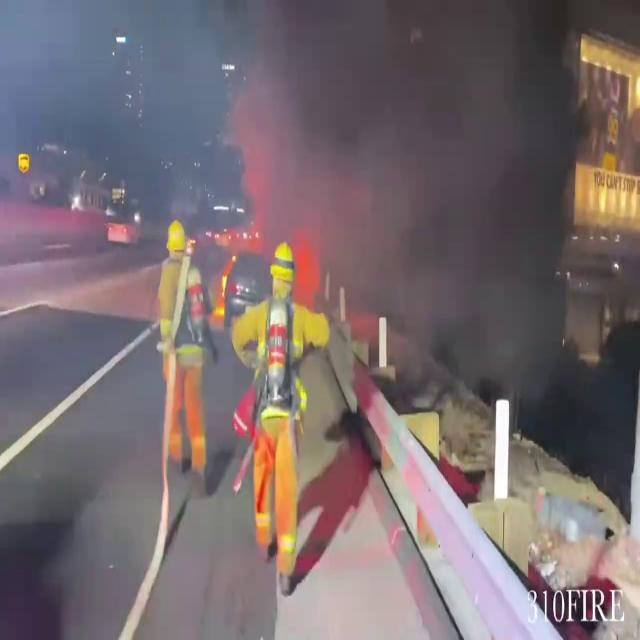Smoke: (222, 0, 636, 390)
